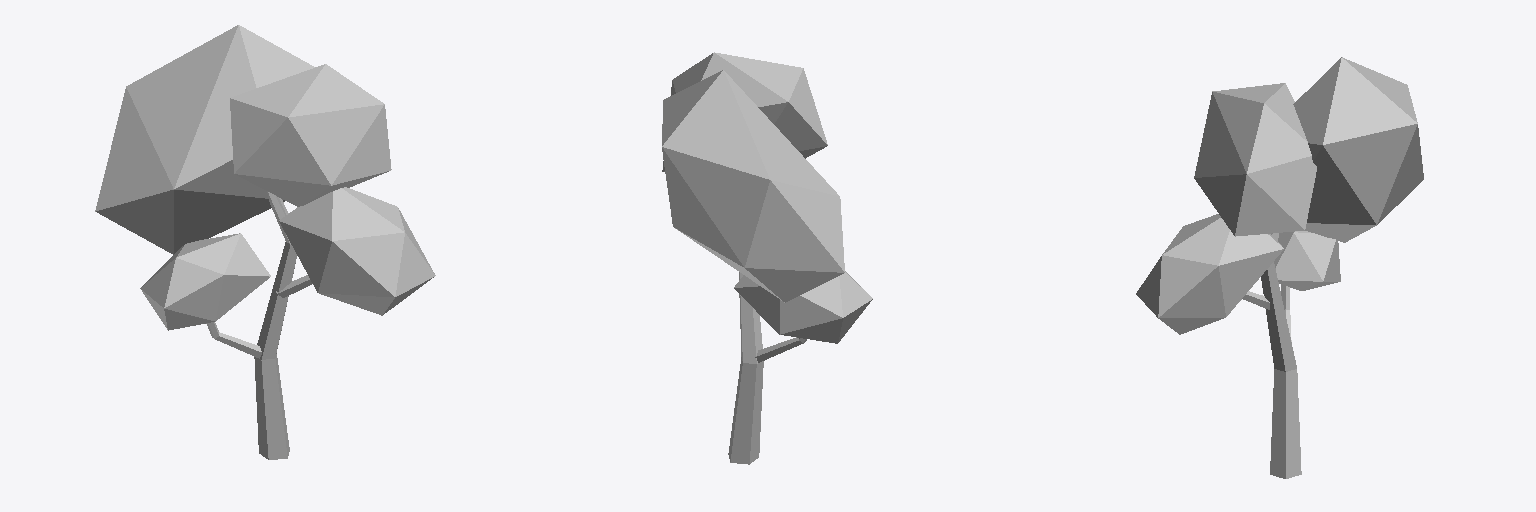
File: tree.obj
The picture shows the model from 3 angles: view 1: azimuth 30°, elevation 25°; view 2: azimuth 150°, elevation 25°; view 3: azimuth 270°, elevation 25°; orthographic projection.
Visible parts, largest first — view 1: tree01; view 2: tree01; view 3: tree01.
Boxes of the visible parts, <box> form: tree01: <box>95,25,435,459</box>; tree01: <box>662,52,872,464</box>; tree01: <box>1136,57,1423,478</box>.
Bounding box in the file's own units: 308 × 509 × 324.